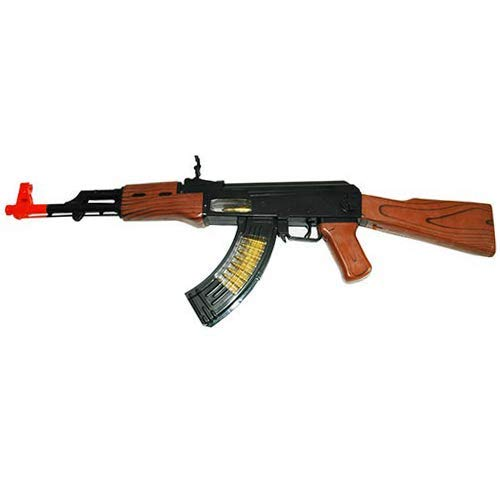Arma Falsa: (3, 150, 500, 328)
